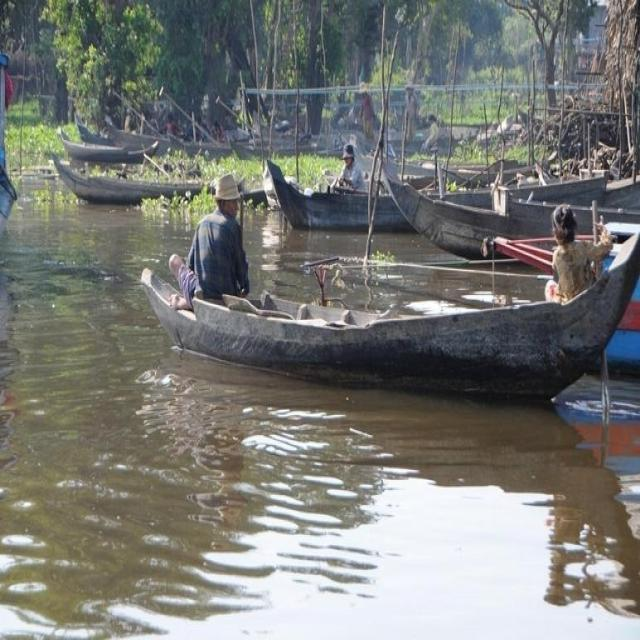Hyacinth: (181, 151, 370, 182), (143, 188, 252, 221), (8, 100, 56, 162), (30, 188, 80, 208), (354, 248, 397, 268)
boat: (142, 216, 640, 403), (49, 152, 217, 210), (270, 168, 415, 232)
